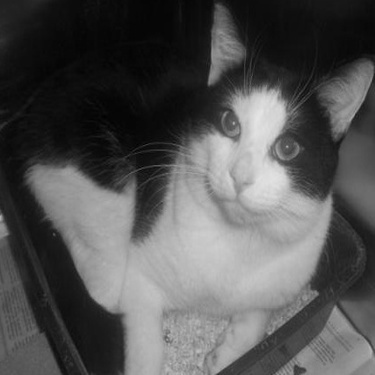cat: (5, 2, 370, 372)
